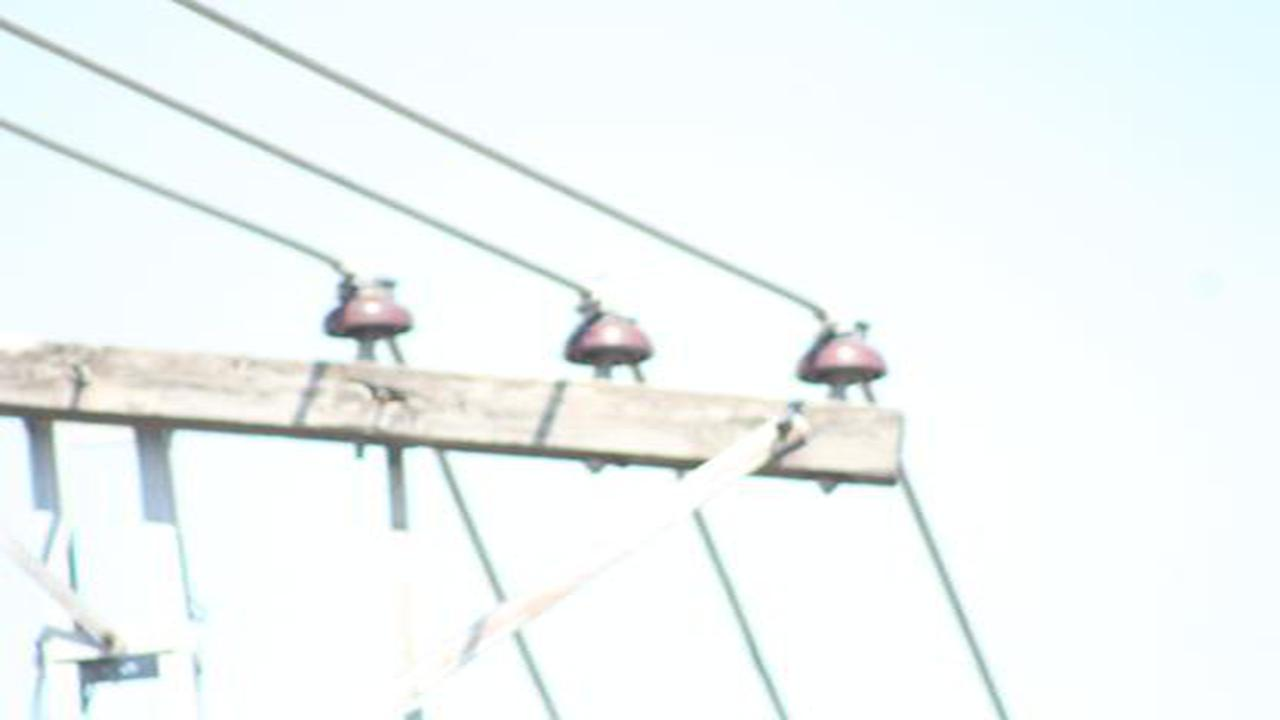insulator_pin: (789, 313, 896, 390), (557, 299, 657, 368), (322, 271, 417, 342)
